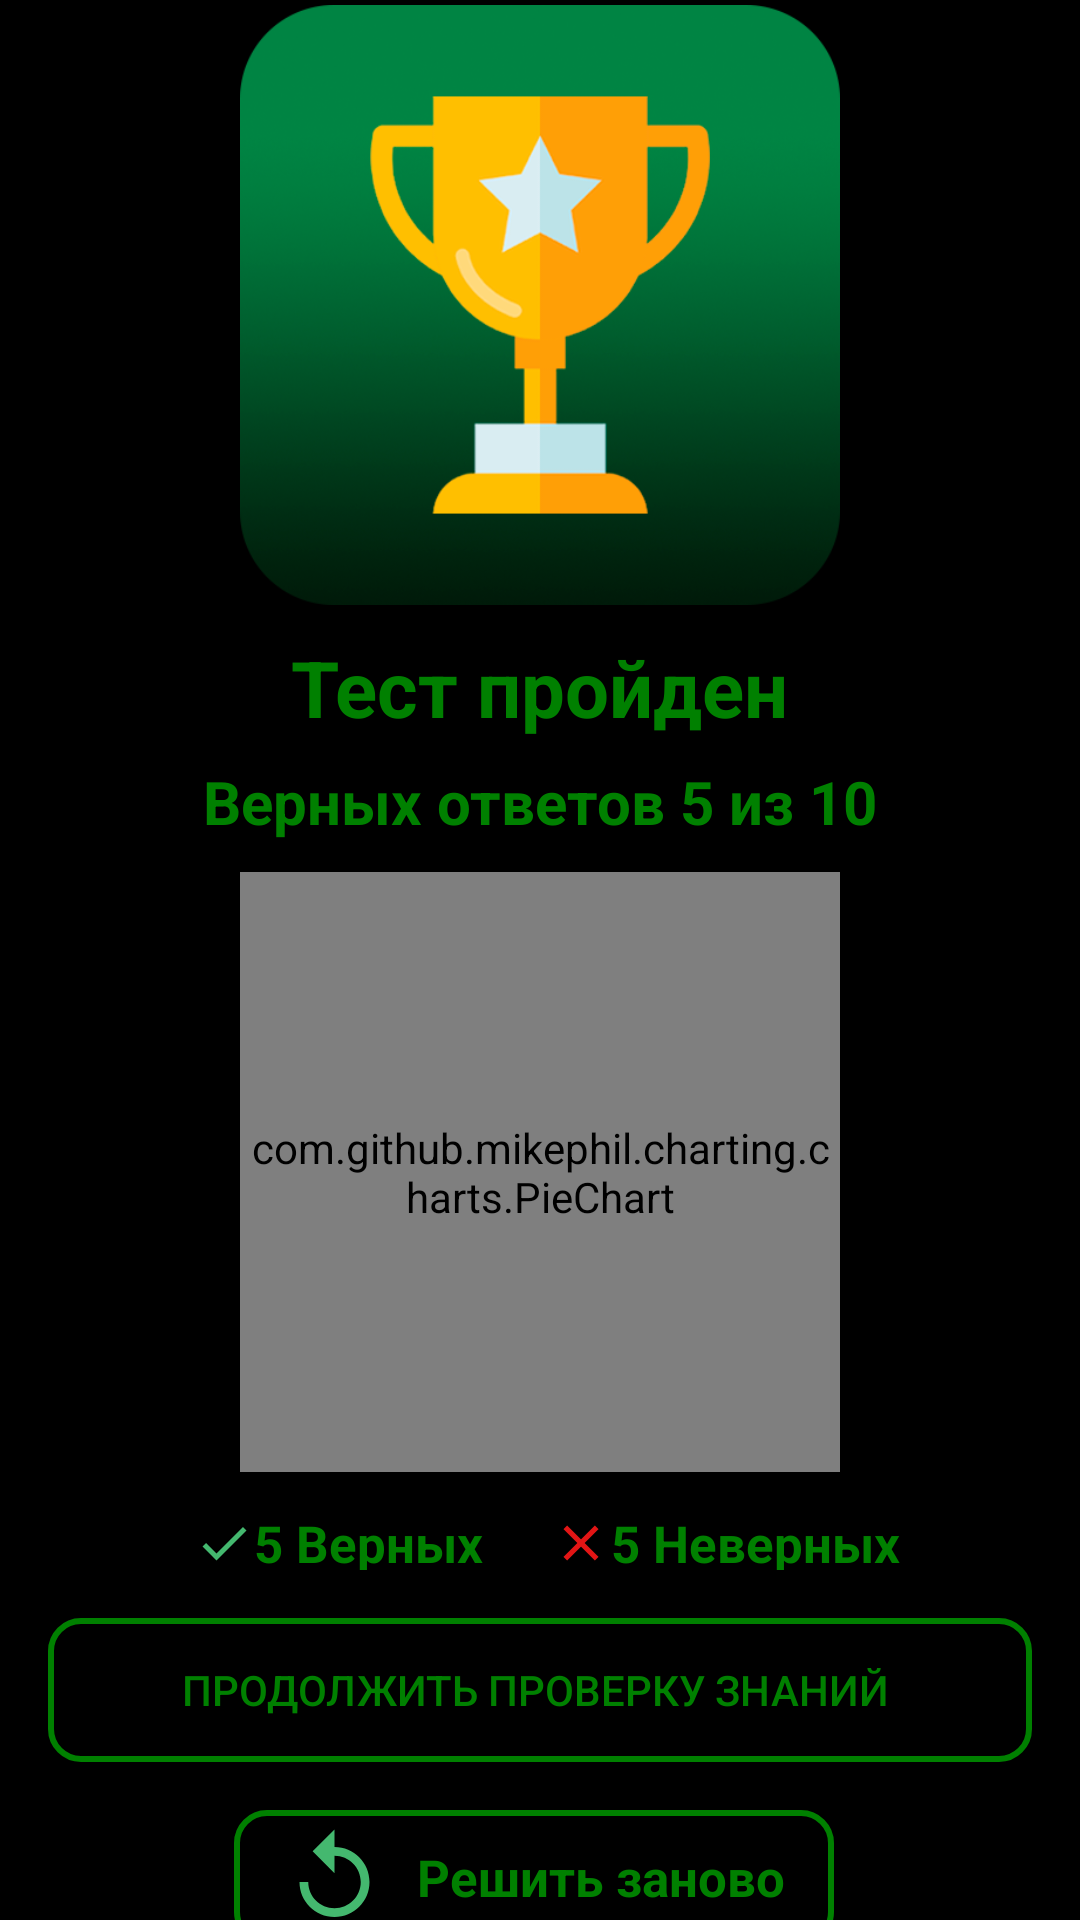

Point at icon controls on the screen. Image size 1080*1920, points as [x,y].
check: [224,1544]
close: [581,1543]
replay: [334,1873]
